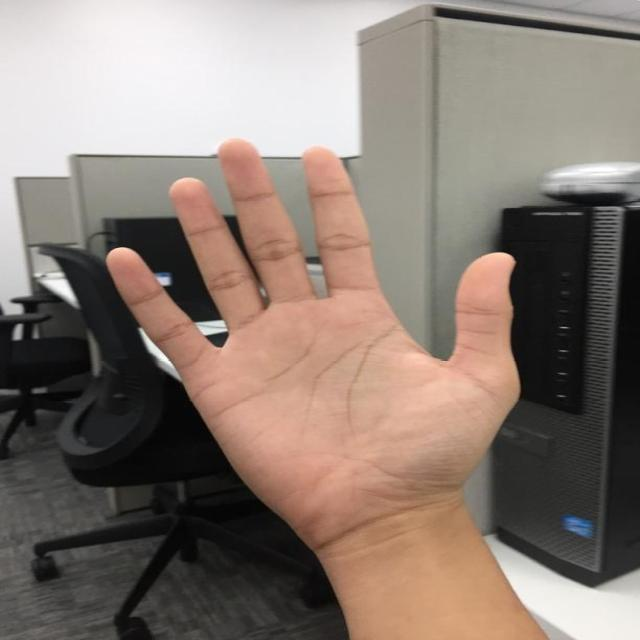hand: (102, 135, 526, 520)
